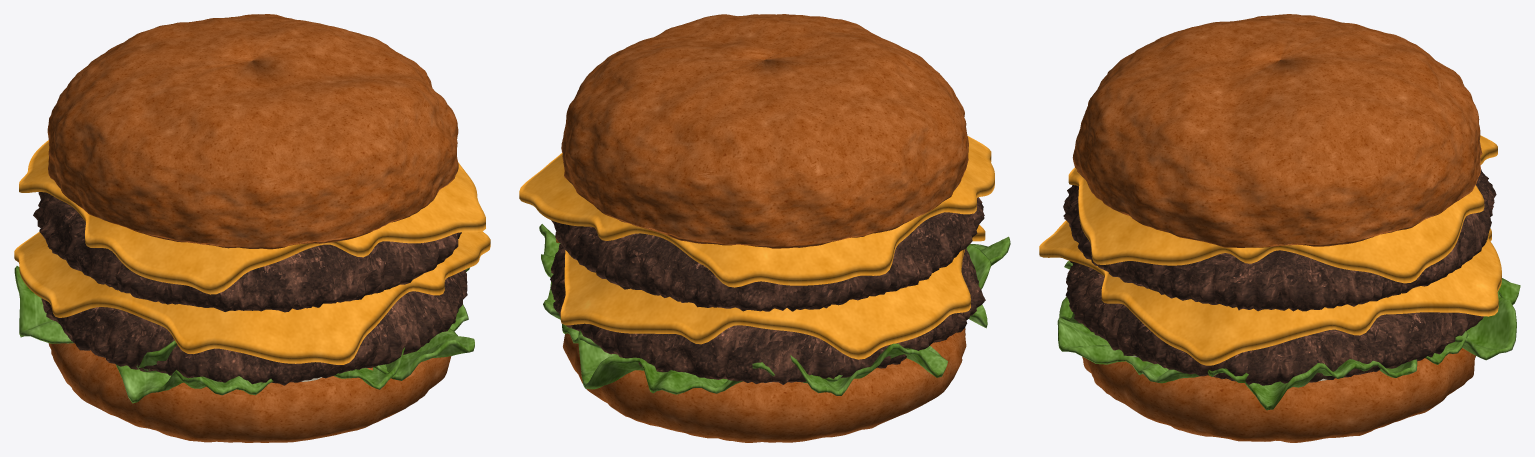
The model's file is jutsu-burger.glb.
3 renders of one model, left to right at view 1: azimuth 30°, elevation 25°; view 2: azimuth 150°, elevation 25°; view 3: azimuth 270°, elevation 25°, orthographic.
Parts seen in each view (by area): view 1: BUN_top, CHEESE_lower, BUN_bottom, PATTY_upper, PATTY_lower, CHEESE_upper, LETTUCE_leaf, LETTUCE_leaf_inner; view 2: BUN_top, BUN_bottom, CHEESE_lower, PATTY_upper, CHEESE_upper, PATTY_lower, LETTUCE_leaf, LETTUCE_leaf_inner; view 3: BUN_top, BUN_bottom, CHEESE_lower, PATTY_upper, PATTY_lower, CHEESE_upper, LETTUCE_leaf, LETTUCE_leaf_inner.
Boxes of the visible parts, <box> form: BUN_top: <box>47,14,458,249</box>; CHEESE_lower: <box>14,231,490,364</box>; BUN_bottom: <box>48,343,451,442</box>; PATTY_upper: <box>33,192,461,312</box>; PATTY_lower: <box>41,269,467,385</box>; CHEESE_upper: <box>19,140,485,294</box>; LETTUCE_leaf: <box>14,266,474,403</box>; LETTUCE_leaf_inner: <box>136,267,469,389</box>; BUN_top: <box>561,14,968,248</box>; BUN_bottom: <box>563,327,966,442</box>; CHEESE_lower: <box>556,224,985,359</box>; PATTY_upper: <box>551,197,984,311</box>; CHEESE_upper: <box>519,136,994,287</box>; PATTY_lower: <box>550,244,985,384</box>; LETTUCE_leaf: <box>539,224,1010,395</box>; LETTUCE_leaf_inner: <box>562,244,990,383</box>; BUN_top: <box>1072,14,1482,247</box>; BUN_bottom: <box>1082,348,1475,442</box>; CHEESE_lower: <box>1039,220,1501,365</box>; PATTY_upper: <box>1063,169,1496,311</box>; PATTY_lower: <box>1065,261,1483,385</box>; CHEESE_upper: <box>1068,135,1497,283</box>; LETTUCE_leaf: <box>1057,260,1520,410</box>; LETTUCE_leaf_inner: <box>1059,297,1468,382</box>.
Size of the model in its own units: 0.1349 by 0.0941 by 0.1326.
Materials: 5 (4 with a texture image).
